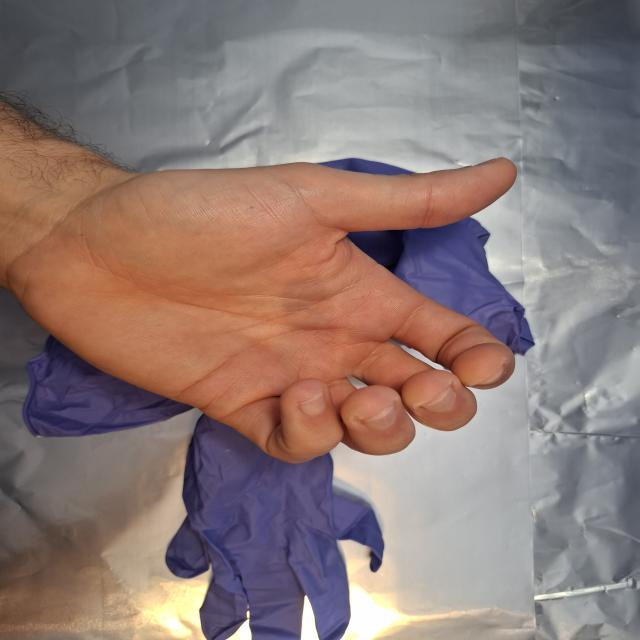glove_off: (2, 130, 519, 466)
